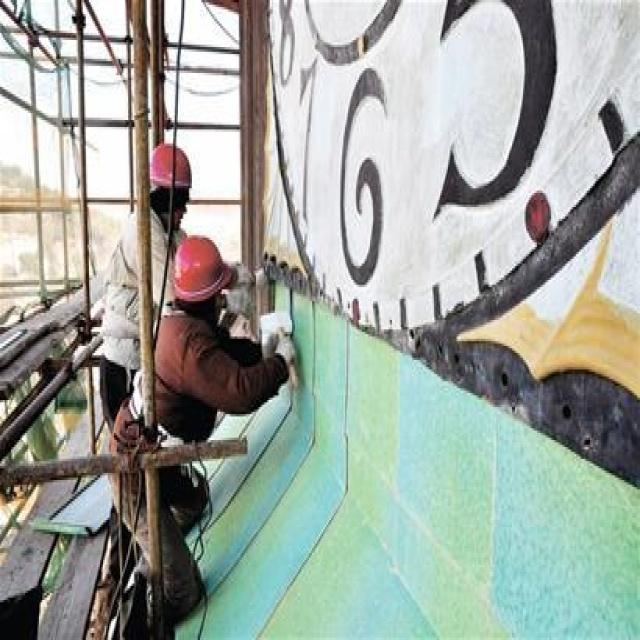helmet: (165, 296, 237, 431), (149, 182, 190, 314)
